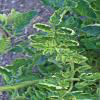Tomato leaf yellow virus: (49, 1, 72, 25), (32, 23, 53, 34), (69, 54, 89, 64), (29, 41, 47, 50), (57, 27, 76, 35), (76, 65, 94, 73), (63, 40, 80, 47), (58, 80, 71, 88), (44, 40, 51, 47)
